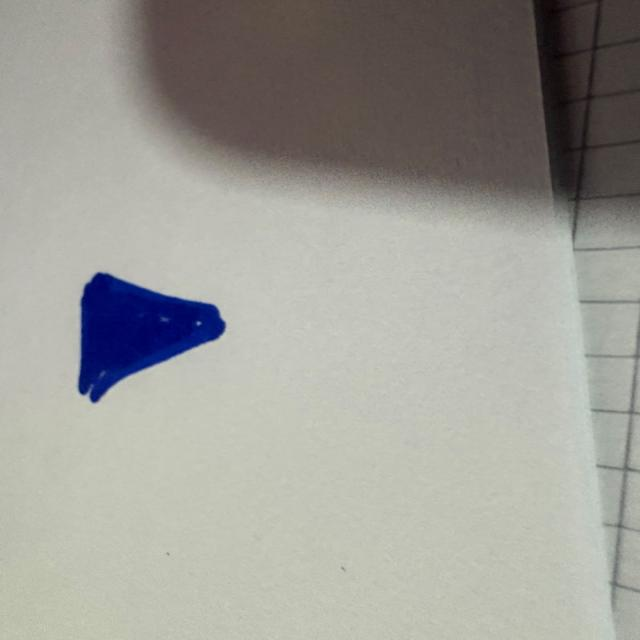Triangle: (78, 273, 225, 402)
